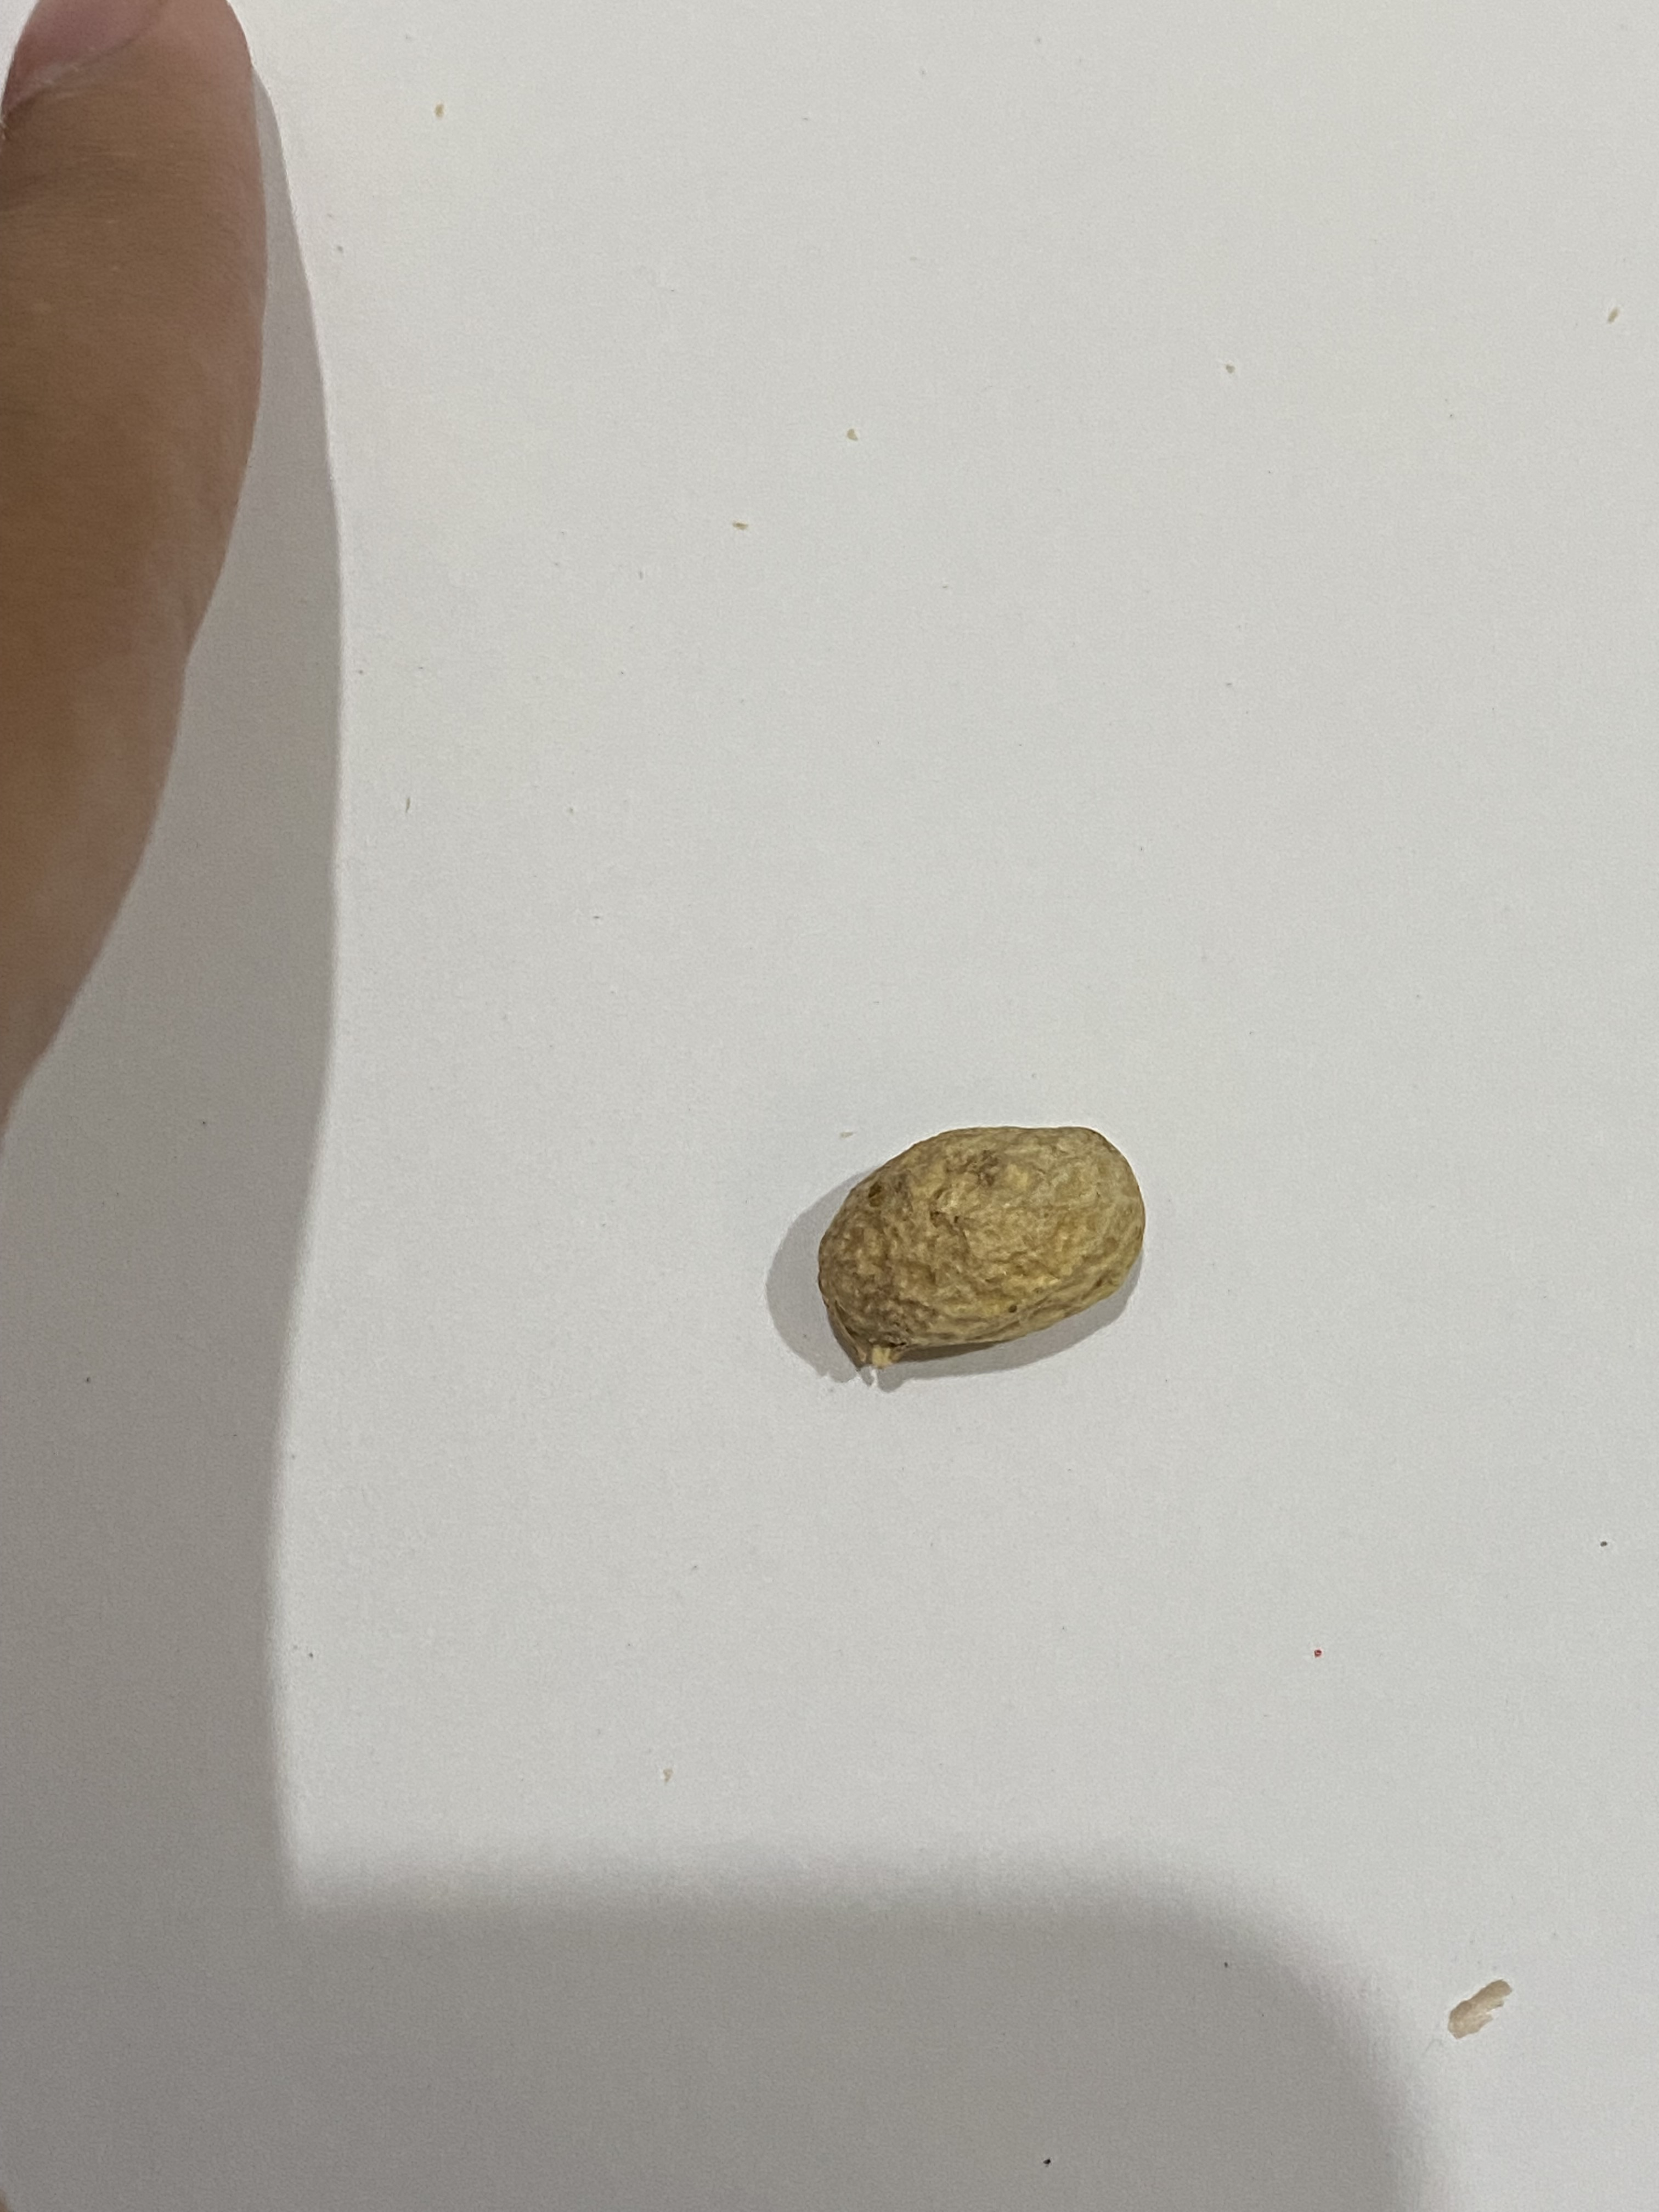kacang1: (779, 1113, 1161, 1386)
